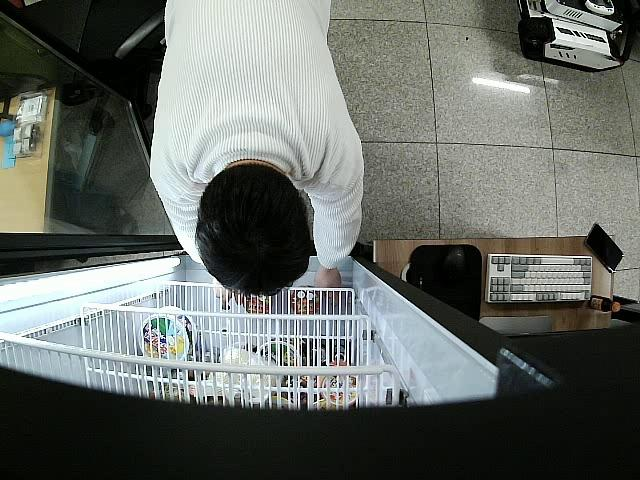06_nuguri_S: (289, 285, 321, 314), (241, 289, 272, 316)
